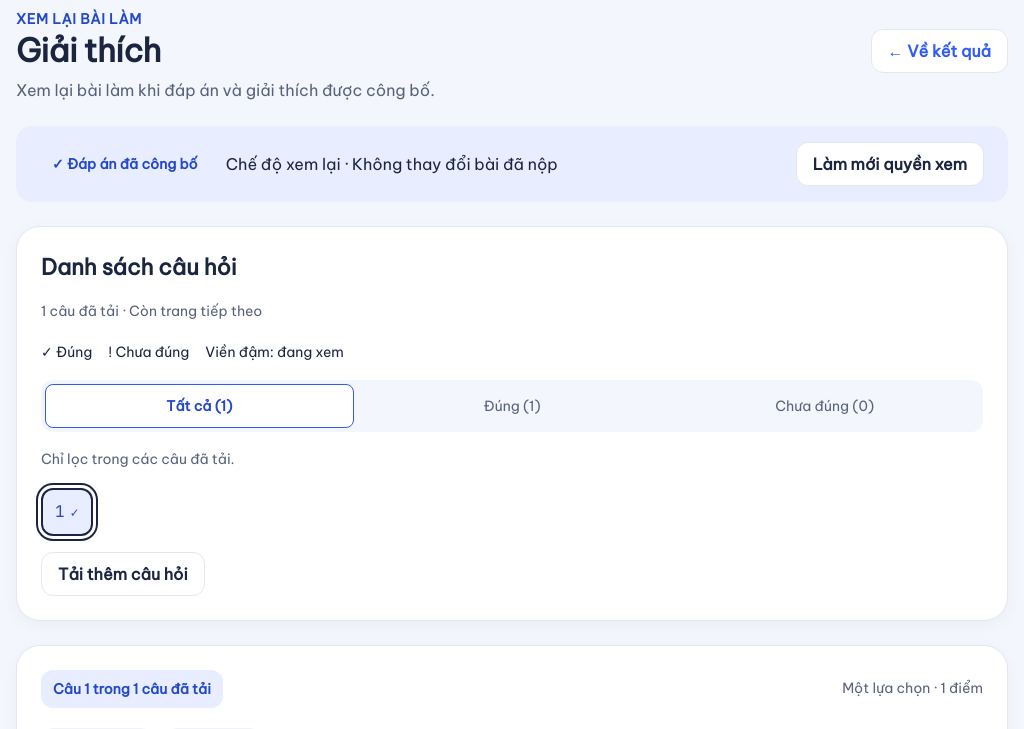
serializes load-more and starts a fresh cursor chain after checking release again
Double-click the button "Tải thêm câu hỏi" at (123, 574), box [41, 552, 205, 596]
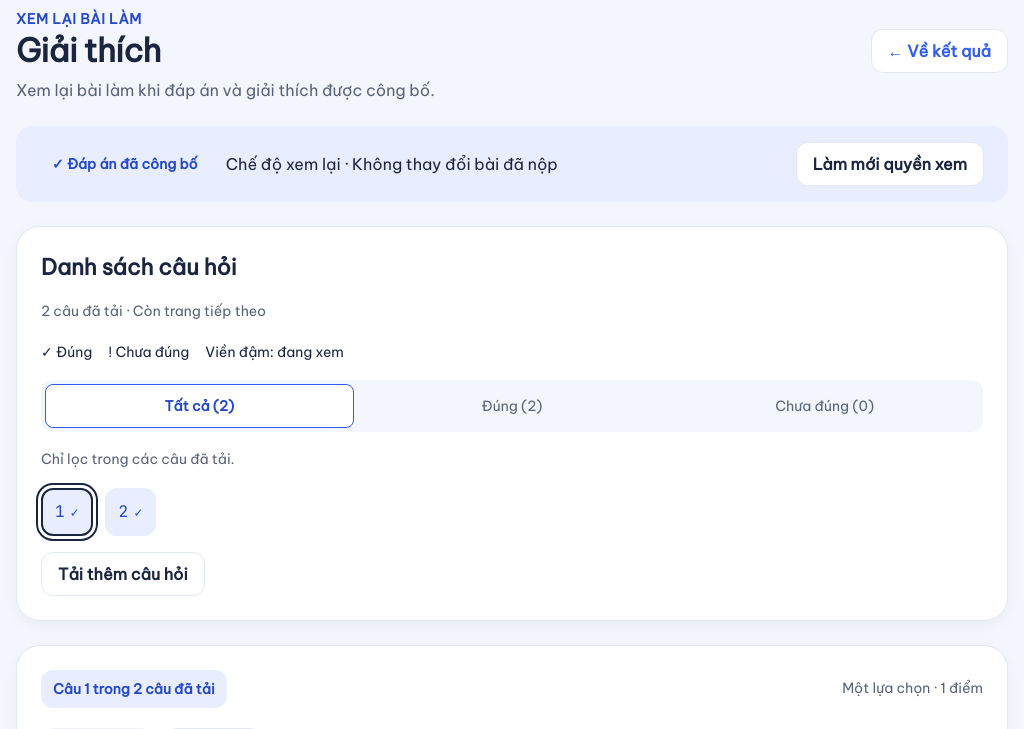
Click the button "Làm mới quyền xem" at (890, 164), box [796, 142, 984, 186]
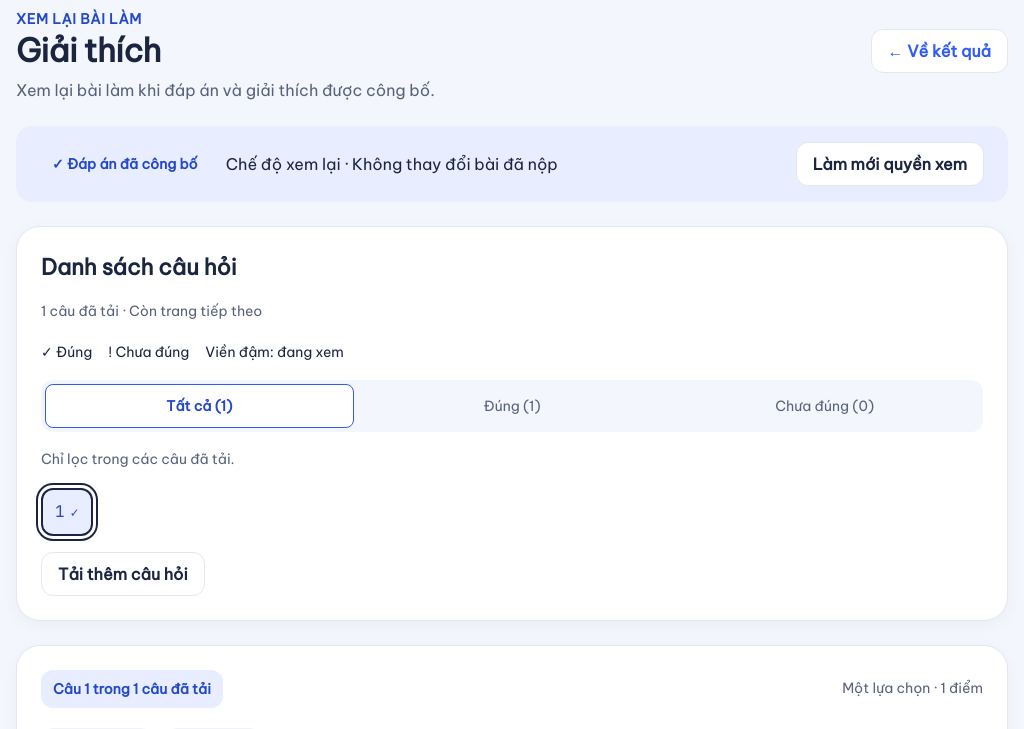
Expected: the text "1 câu đã tải · Còn trang tiếp theo" is shown, [41, 302, 262, 320]
